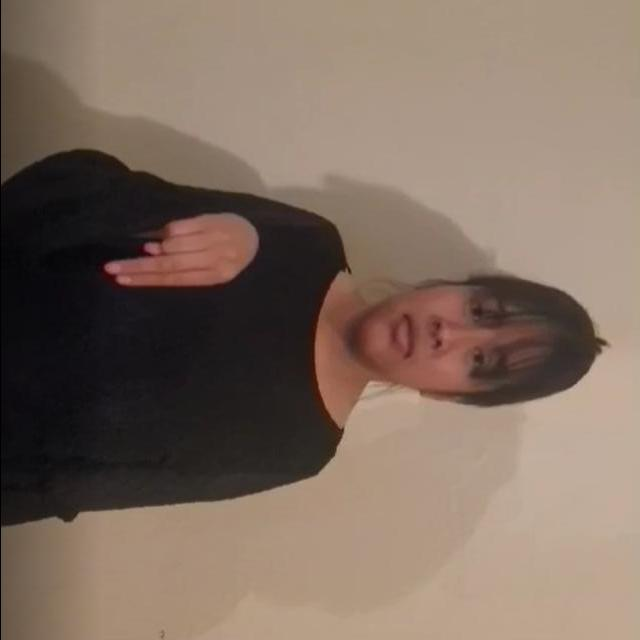N: (73, 199, 281, 300)
